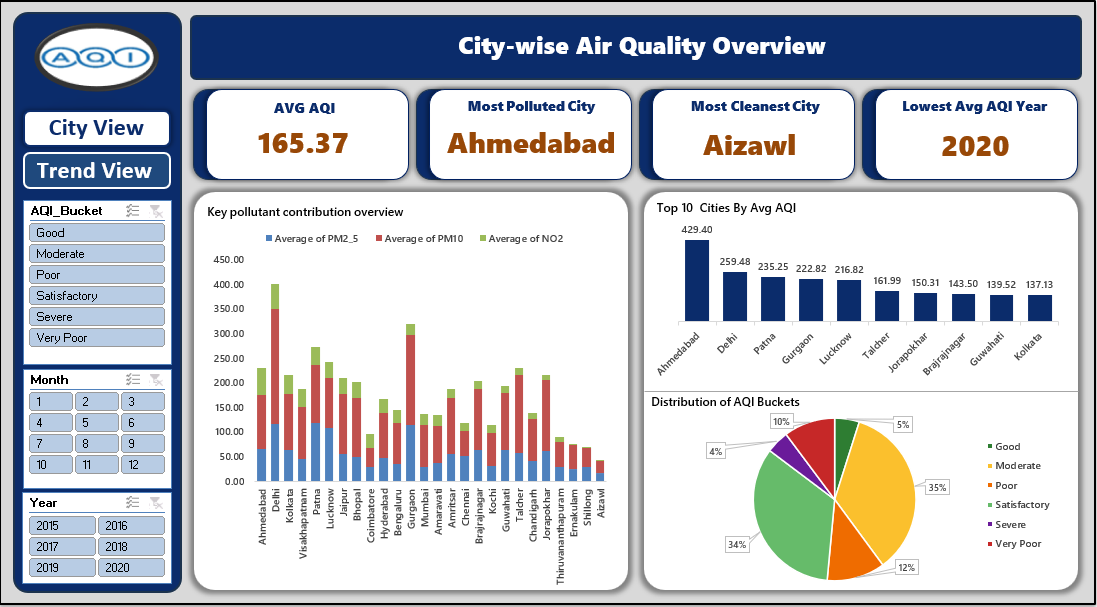

Layout of this report page (visuals, bound fields, positions):
{"tool":"powerbi","page":{"name":"National Air Quality Monitoring Dashboard","canvas":[1600,900],"ordinal":0},"visuals":[{"type":"shape","box":[227.7,242.8,714.8,645.4],"z":0},{"type":"shape","box":[0,0,217.2,900.3],"z":1000},{"type":"textbox","box":[22.6,25.6,1004.4,69.4],"z":2000},{"type":"cardVisual","fields":{"Data":["Measures Table.Avg AQI","Measures Table.Most Cleanest City","Measures Table.Most Polluted City","Measures Table.Top Pollutant","Measures Table.Severe Days %"]},"box":[229.6,108.6,1357.7,125.7],"z":3000},{"type":"pivotTable","fields":{"Rows":["Data.City"],"Columns":["Data.Month"],"Values":["Measures Table.Avg AQI"]},"box":[234.2,298.3,698.4,567.3],"z":4000},{"type":"shape","box":[953.1,242.8,633.4,645.4],"z":5000},{"type":"donutChart","title":"AQI Bucket Distribution","fields":{"Category":["Data.AQI_Bucket"],"Y":["Avg(Data.AQI)"]},"box":[968.2,571.6,604.7,294.1],"z":6000},{"type":"shape","box":[953.1,529.3,633.4,49.8],"z":7000},{"type":"slicer","fields":{"Values":["Data.City"]},"box":[847.5,19.6,274.5,81.4],"z":8000},{"type":"slicer","fields":{"Values":["Calender.Date"]},"box":[1134.1,19.6,271.4,81.4],"z":9000},{"type":"hundredPercentStackedBarChart","title":"Pollutant-wise AQI impact visualization","fields":{"Category":["Data.City"],"Y":["Avg(Data.NO2_NOx_Ratio)","Avg(Data.SO2_NO2_Ratio)","Avg(Data.PM_Ratio)","Avg(Data.CO_O3_Ratio)"]},"box":[967.9,253.9,605.3,287.5],"z":10000},{"type":"textbox","box":[234.2,252.3,457.2,36.2],"z":11000},{"type":"pageNavigator","box":[16.6,269.9,182.5,167.4],"z":12000},{"type":"image","box":[7.5,25.6,200.6,95],"z":13000},{"type":"image","box":[73.9,699.7,67.9,78.4],"z":14000},{"type":"image","box":[75.4,463,67.9,78.4],"z":15000},{"type":"image","box":[73.9,576.1,67.9,78.4],"z":16000}]}

Visuals, with their boxes in screenshot pixels (x1, y1, x2, y2), scaled from the page's 1600x900 canvas onto the 1097x607 screenshot:
shape: (156,164,646,599)
shape: (0,0,149,606)
textbox: (15,17,704,64)
cardVisual - Measures Table.Avg AQI x Measures Table.Most Cleanest City: (157,73,1088,158)
pivotTable - Data.City x Data.Month: (161,201,639,584)
shape: (653,164,1088,599)
"AQI Bucket Distribution" donutChart: (664,386,1078,584)
shape: (653,357,1088,391)
slicer - Data.City: (581,13,769,68)
slicer - Calender.Date: (778,13,964,68)
"Pollutant-wise AQI impact visualization" hundredPercentStackedBarChart: (664,171,1079,365)
textbox: (161,170,474,195)
pageNavigator: (11,182,137,295)
image: (5,17,143,81)
image: (51,472,97,525)
image: (52,312,98,365)
image: (51,389,97,441)
